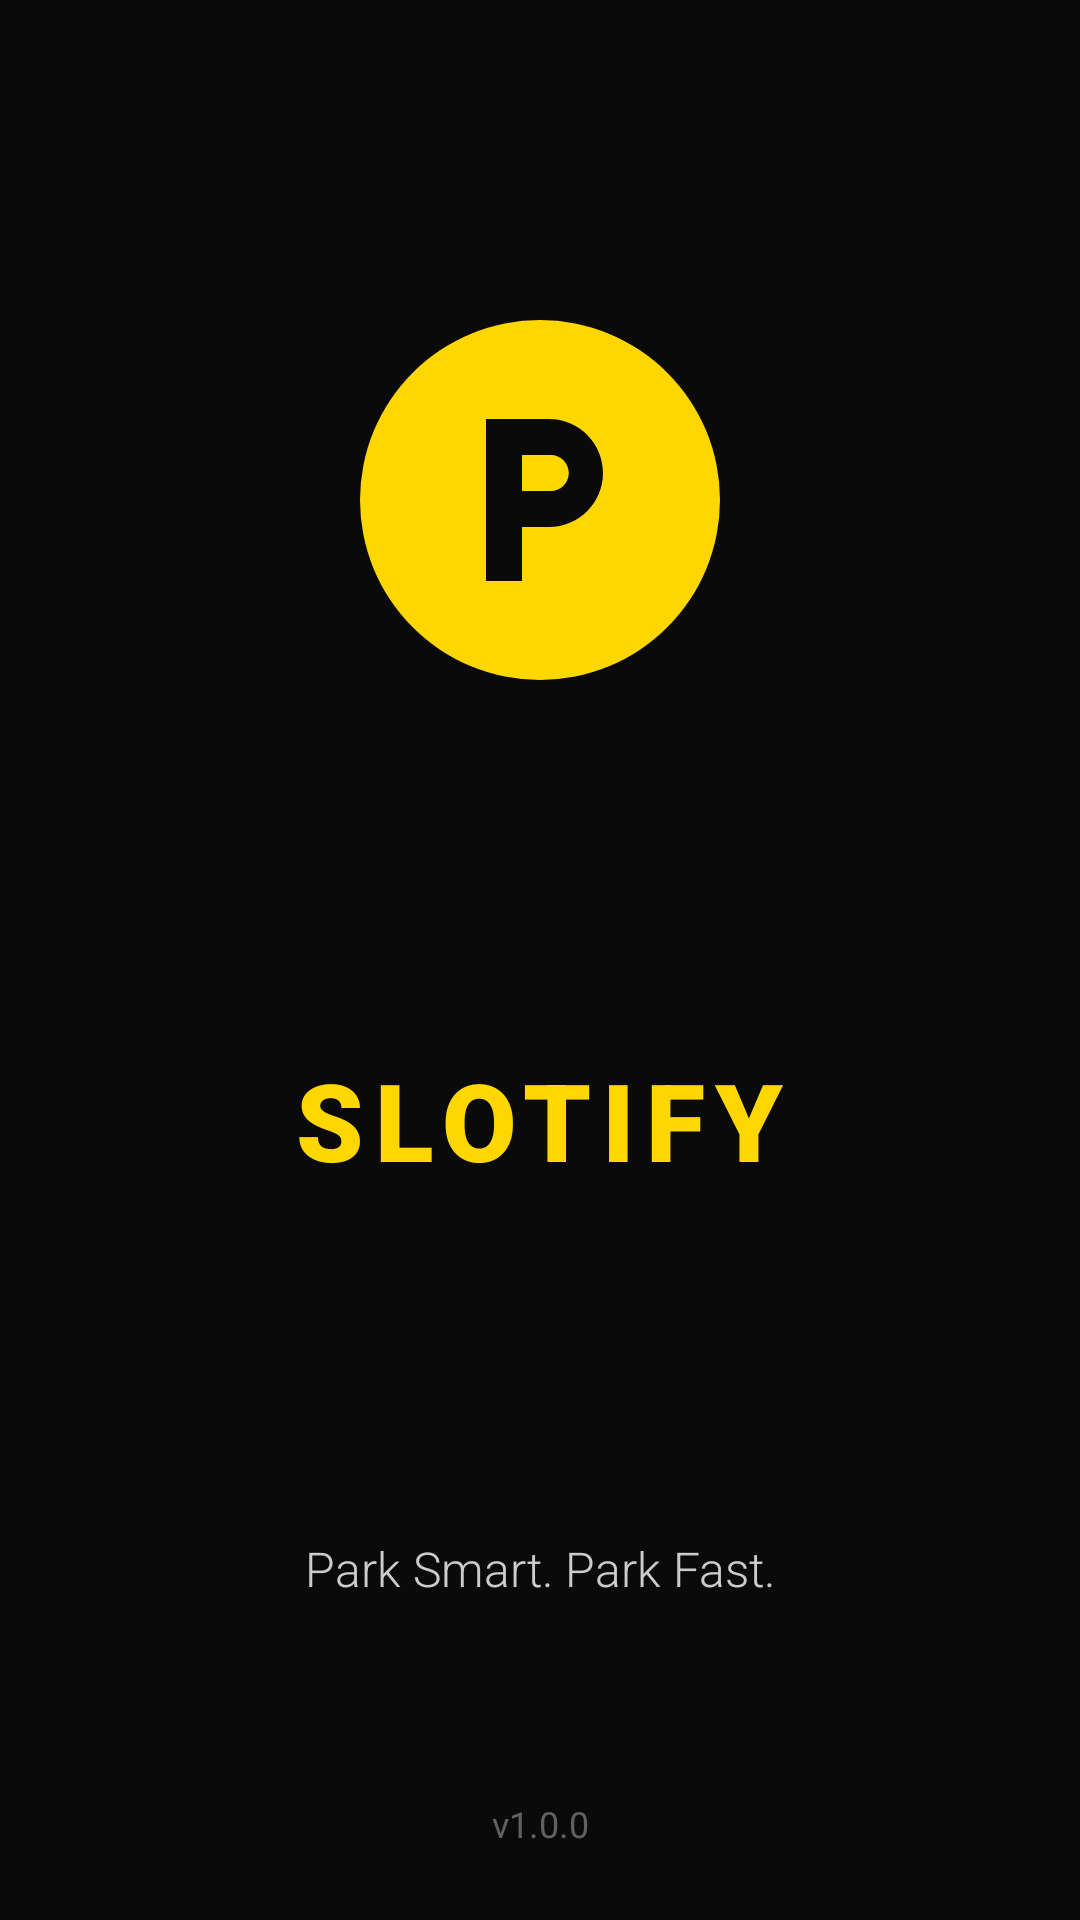

Icon bounding boxes for this 1080×1920 phone screenshot, format bbox=(x1, y1, x2, y2):
parking: bbox=(360, 320, 720, 680)
